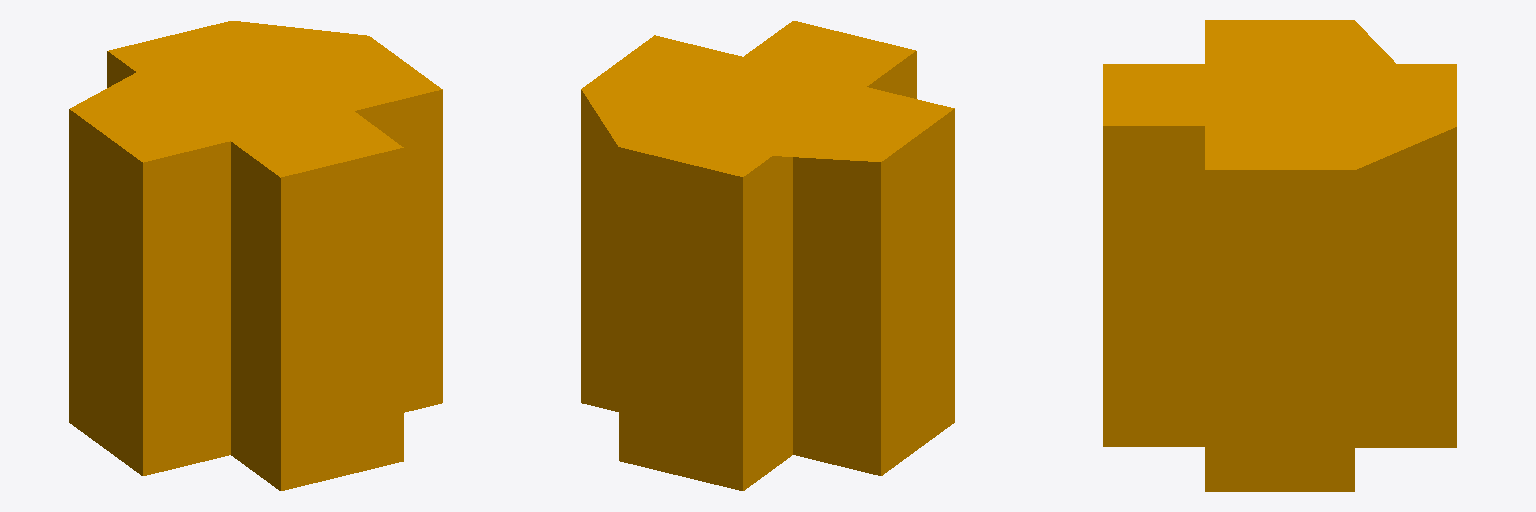
The robot description file, URDF, robot "object":
<?xml version="1.0"?>
<robot name="object">
  <link name="object">
    <visual>
      <origin xyz="0 0 0"/>
      <geometry>
        <mesh filename="meshes/set2/set_obj14_irregular_block_cross.obj" scale=".03 .03 .03"/>
      </geometry>
    </visual>
    <collision>
  <origin xyz="0 0 0"/>
  <geometry>
    <mesh filename="meshes/set2/set_obj14_irregular_block_cross_0decompose.obj" scale=".03 .03 .03"/>
<!--          <mesh filename="meshes/custom/obj0_ball.obj" scale=".05 .05 .05"/>-->
  </geometry>
</collision><collision>
  <origin xyz="0 0 0"/>
  <geometry>
    <mesh filename="meshes/set2/set_obj14_irregular_block_cross_1decompose.obj" scale=".03 .03 .03"/>
<!--          <mesh filename="meshes/custom/obj0_ball.obj" scale=".05 .05 .05"/>-->
  </geometry>
</collision><collision>
  <origin xyz="0 0 0"/>
  <geometry>
    <mesh filename="meshes/set2/set_obj14_irregular_block_cross_2decompose.obj" scale=".03 .03 .03"/>
<!--          <mesh filename="meshes/custom/obj0_ball.obj" scale=".05 .05 .05"/>-->
  </geometry>
</collision>

<!--    <collision>-->
<!--      <origin xyz="0 0 0"/>-->
<!--      <geometry>-->
<!--        <mesh filename="meshes/set2/set_obj14_irregular_block_cross.obj" scale=".03 .03 .03"/>-->
<!--&lt;!&ndash;          <mesh filename="meshes/custom/obj0_ball.obj" scale=".05 .05 .05"/>&ndash;&gt;-->
<!--      </geometry>-->
<!--    </collision>-->
    <inertial>
      <density value="1000.0"/>
    </inertial>
  </link>
</robot>

--- What the picture shows (computed from the rendered views, not written in the file) ---
Views: 3 orthographic renders of the robot side by side, from view 1: azimuth 30°, elevation 25°; view 2: azimuth 150°, elevation 25°; view 3: azimuth 270°, elevation 25°.
Robot: object — 1 links, 0 joints (none); root link object; default pose: all joints at 0.
Visible links, largest first — view 1: object; view 2: object; view 3: object.
Boxes of the visible links, bbox=[...] form: object: bbox=[69, 21, 442, 490]; object: bbox=[581, 21, 954, 490]; object: bbox=[1103, 20, 1456, 491].
Size in the robot's own frame: 0.06 by 0.06 by 0.06 metres.
1 mesh visuals loaded from 1 distinct referenced files (1 OBJ).